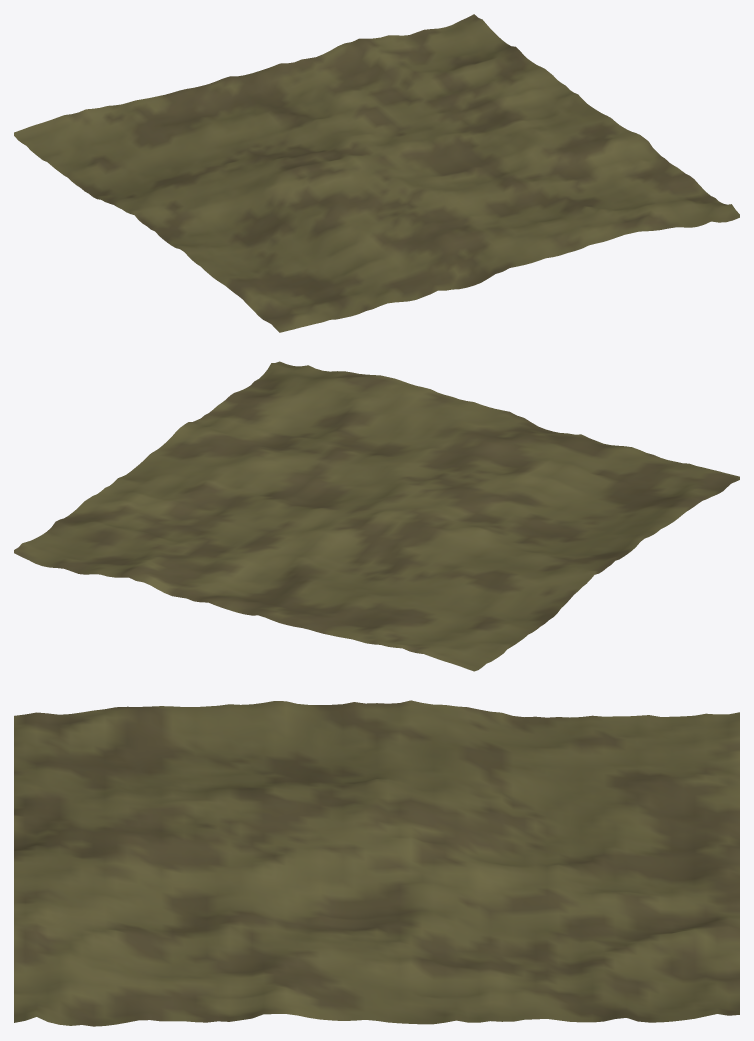
File: land_f_06_10.glb
The picture shows the model from 3 angles, top to bottom: view 1: azimuth 30°, elevation 25°; view 2: azimuth 150°, elevation 25°; view 3: azimuth 270°, elevation 25°; orthographic projection. The views are drawn at different scales.
Parts seen in each view (by area): view 1: land_f_06_10; view 2: land_f_06_10; view 3: land_f_06_10.
Part boxes in pixels (<box>): land_f_06_10: <box>14,14,739,332</box>; land_f_06_10: <box>14,361,739,671</box>; land_f_06_10: <box>14,700,739,1026</box>.
Size of the model in its own units: 3840 by 162 by 3840.
